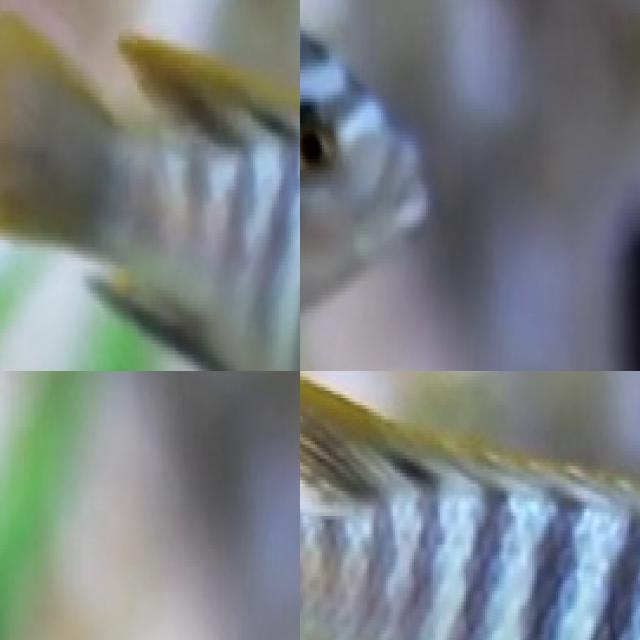fish: (0, 0, 300, 371), (300, 0, 463, 371)
